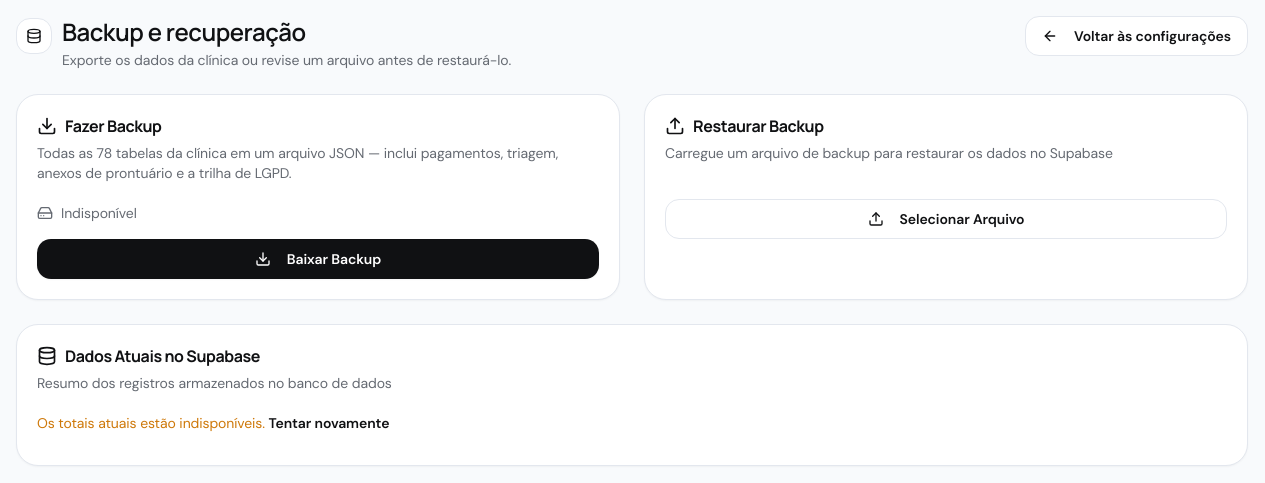
BackupRestore — confirmação da restauração › mostra falha de consulta do espaço sem rejeição não tratada e permite repetir
Expected: the text "Indisponível" is shown, top-left (61, 203), bottom-right (137, 223)
Click the button "Tentar novamente": (329, 423) top-left (269, 413), bottom-right (389, 433)
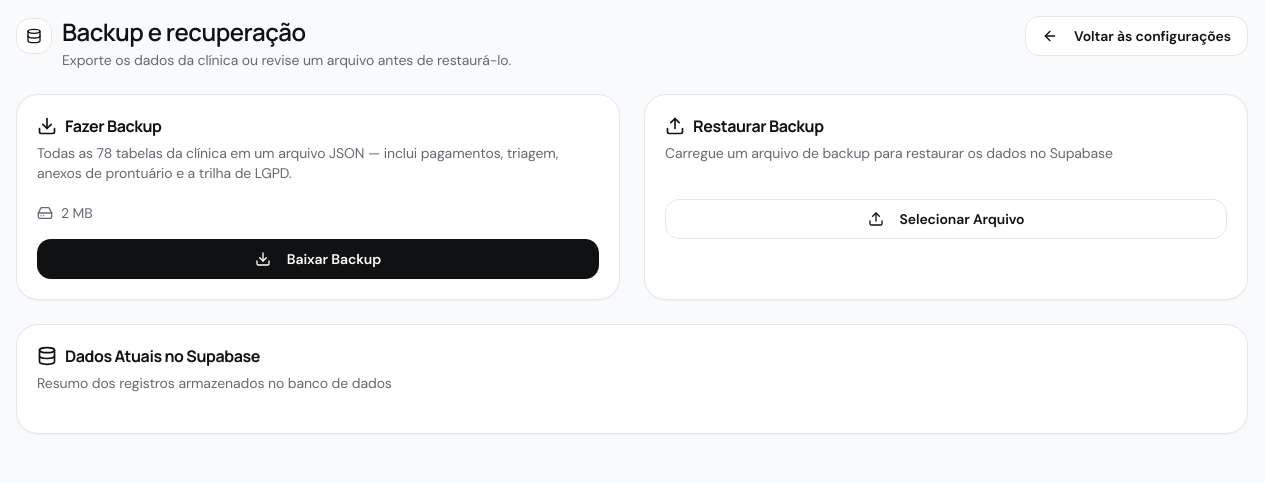
Expected: the text "2 MB" is shown, top-left (61, 203), bottom-right (93, 223)
